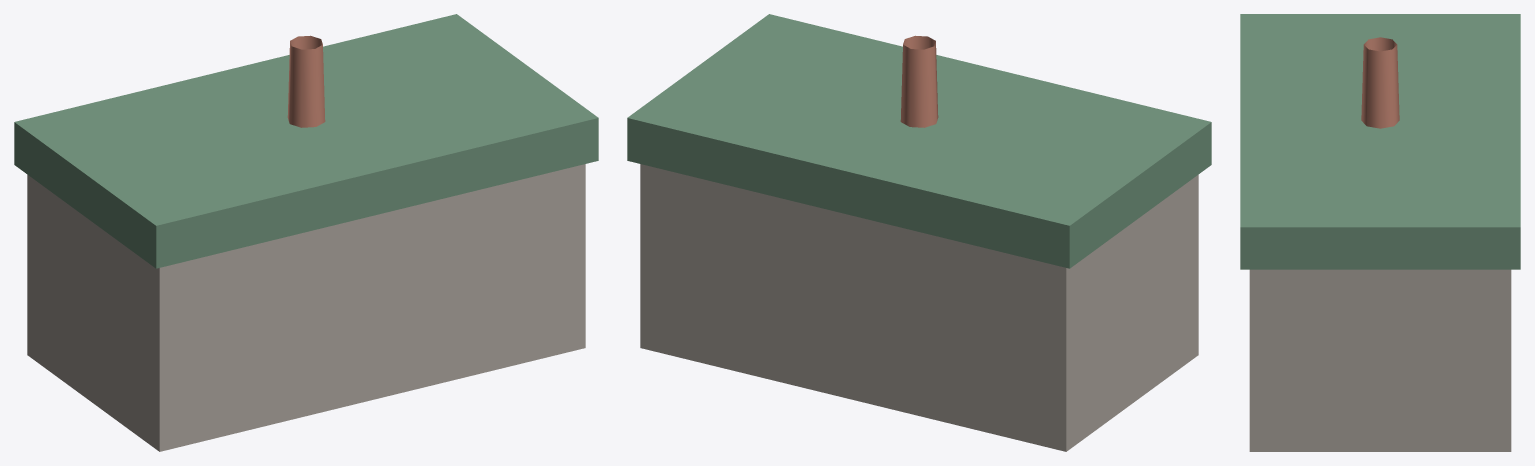
File: tea_factory_heritage.glb
The picture shows the model from 3 angles, left to right: view 1: azimuth 30°, elevation 25°; view 2: azimuth 150°, elevation 25°; view 3: azimuth 270°, elevation 25°; orthographic projection.
Parts seen in each view (by area): view 1: MainFactoryBlock_Node, GabledGreenRoof_Node, FactoryChimney_Node; view 2: MainFactoryBlock_Node, GabledGreenRoof_Node, FactoryChimney_Node; view 3: GabledGreenRoof_Node, MainFactoryBlock_Node, FactoryChimney_Node.
Boxes of the visible parts, x1=… form: MainFactoryBlock_Node: x1=27, y1=164, x2=585, y2=451; GabledGreenRoof_Node: x1=14, y1=14, x2=598, y2=268; FactoryChimney_Node: x1=287, y1=35, x2=325, y2=127; MainFactoryBlock_Node: x1=640, y1=164, x2=1198, y2=451; GabledGreenRoof_Node: x1=627, y1=14, x2=1211, y2=268; FactoryChimney_Node: x1=900, y1=35, x2=938, y2=127; GabledGreenRoof_Node: x1=1240, y1=14, x2=1520, y2=269; MainFactoryBlock_Node: x1=1249, y1=269, x2=1511, y2=451; FactoryChimney_Node: x1=1361, y1=37, x2=1399, y2=128.
Bounding box in the file's own units: 27 × 18 × 15.
